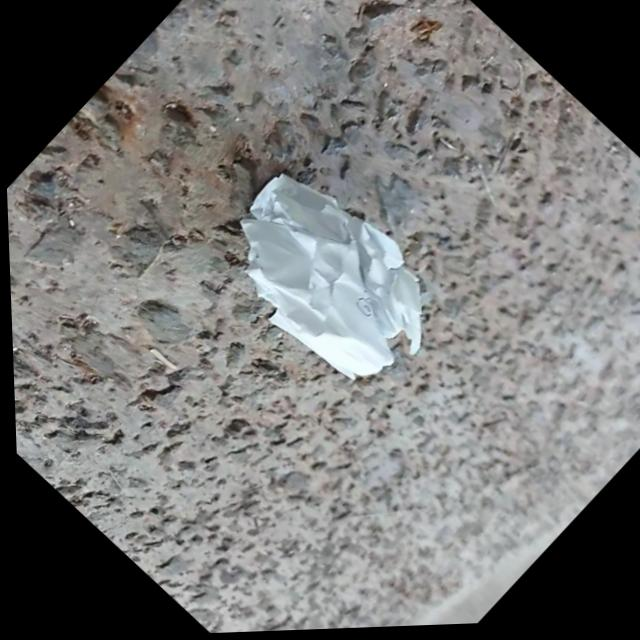paper: (164, 118, 489, 442)
